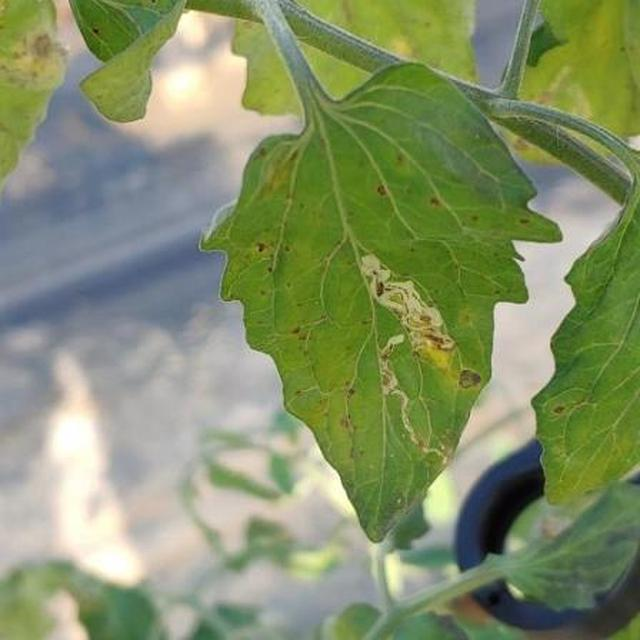Leaf Miner: (281, 113, 640, 640)
